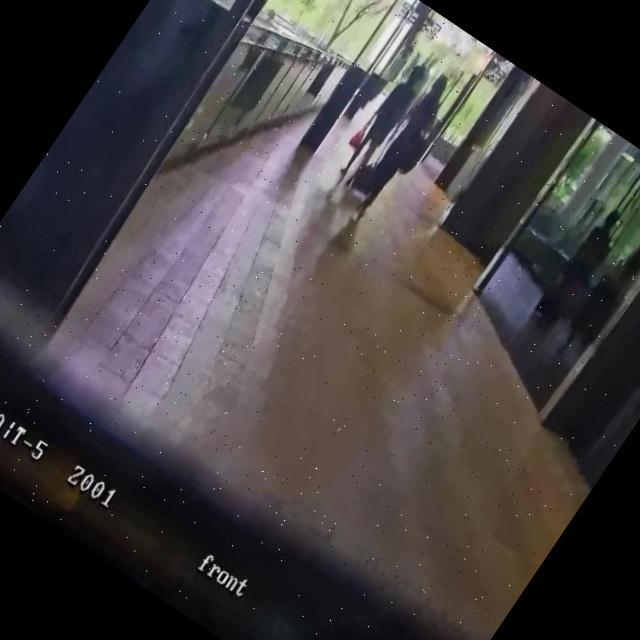person: (341, 69, 462, 227), (328, 55, 435, 195), (529, 203, 632, 334), (557, 224, 640, 359)
